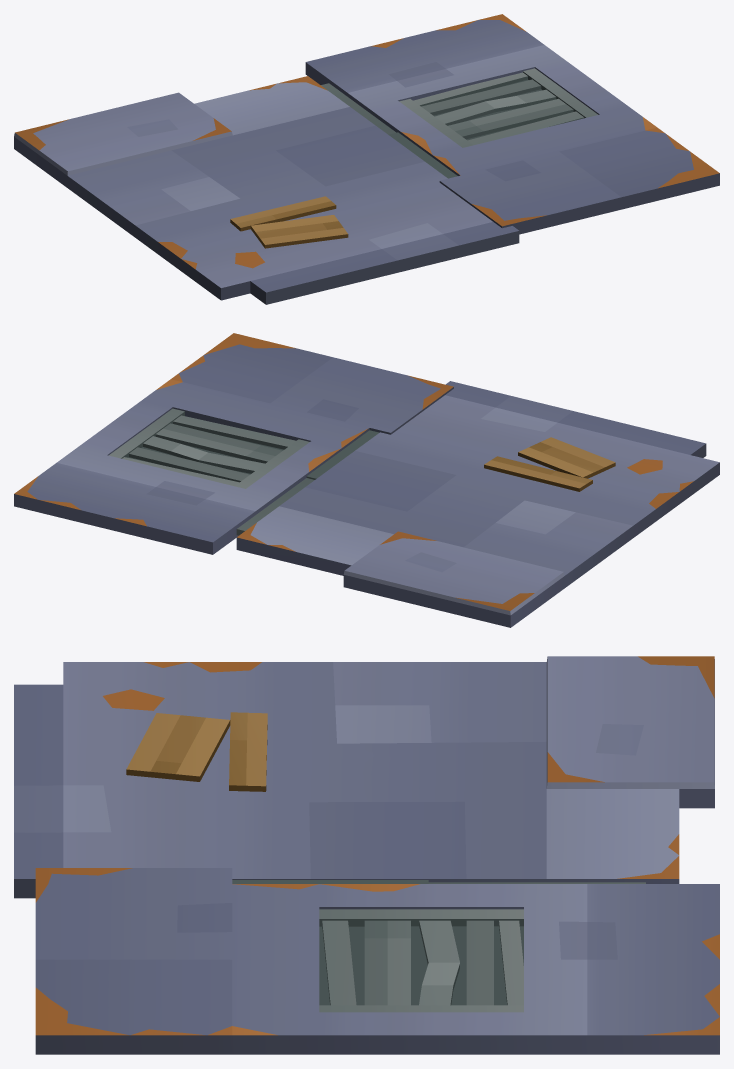
Rendered from factory-platform.obj.
3 renders of one model, top to bottom at view 1: azimuth 30°, elevation 25°; view 2: azimuth 150°, elevation 25°; view 3: azimuth 270°, elevation 25°, orthographic. The views are drawn at different scales.
Visible parts, largest first — view 1: factory-platform; view 2: factory-platform; view 3: factory-platform.
Boxes of the visible parts, x1,y1,x2,y2 form: factory-platform: (14, 14, 719, 304); factory-platform: (14, 333, 719, 627); factory-platform: (14, 656, 719, 1054).
Bounding box in the file's own units: 29.8 × 0.9521 × 23.64.
1 material, 1 textured.
